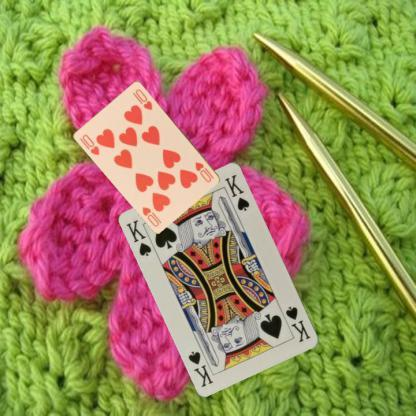10h: (192, 158, 216, 183), (80, 132, 102, 156)
Ks: (283, 303, 313, 344), (124, 218, 154, 258)
